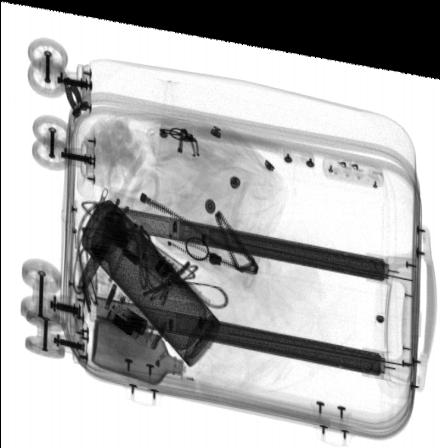Scissors: (76, 140, 162, 292)
